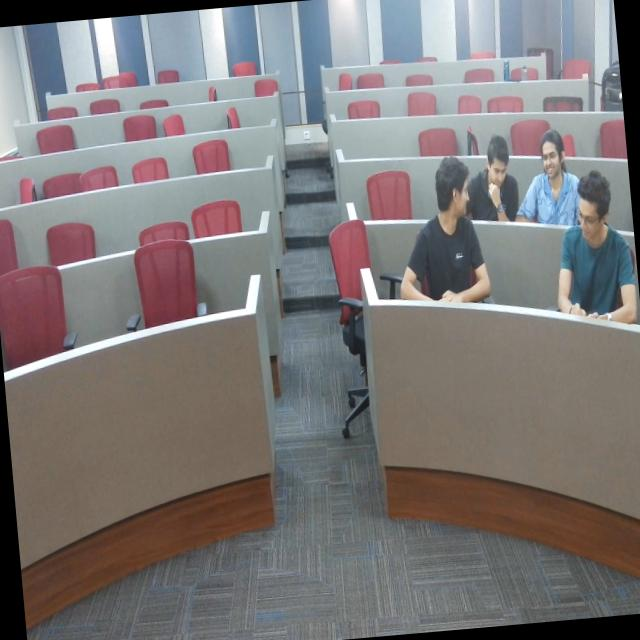cheating: (405, 159, 494, 313)
non-cheating: (556, 185, 640, 340)
